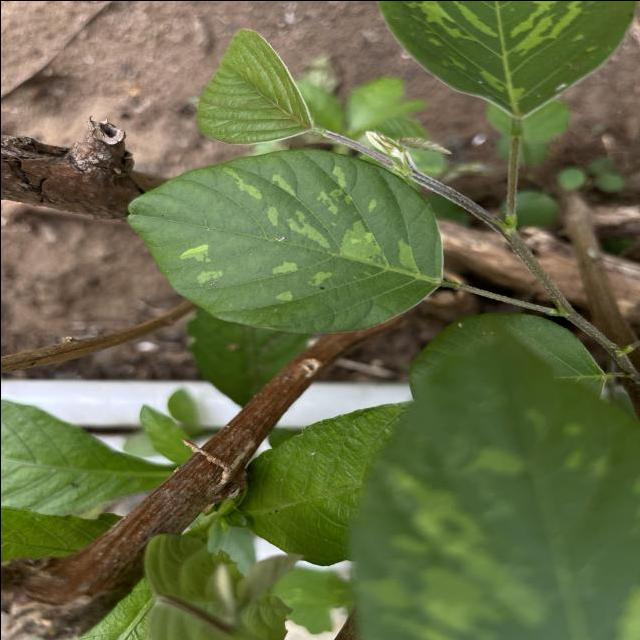Desmodium gangeticum: (121, 144, 446, 336)
